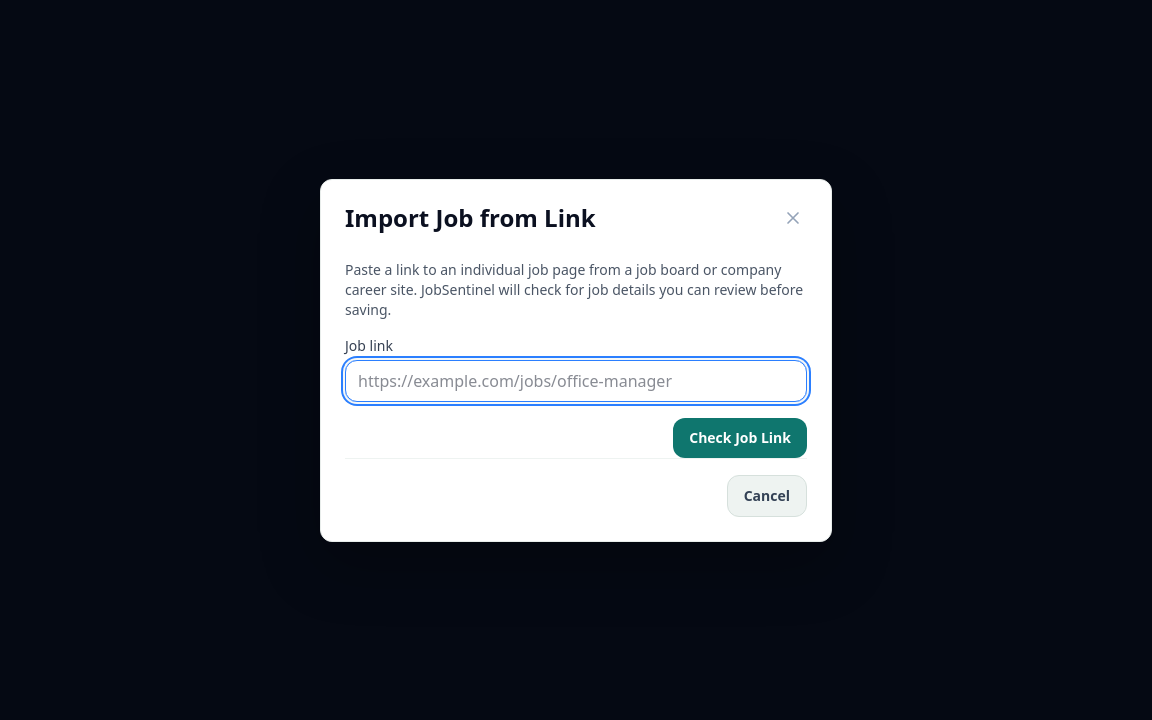
JobImportModal › explains invalid links without technical URL wording
Type "not a link" into the field labelled "Job link".
click(576, 380); type("not a link")  # box x1=345 y1=360 x2=807 y2=402
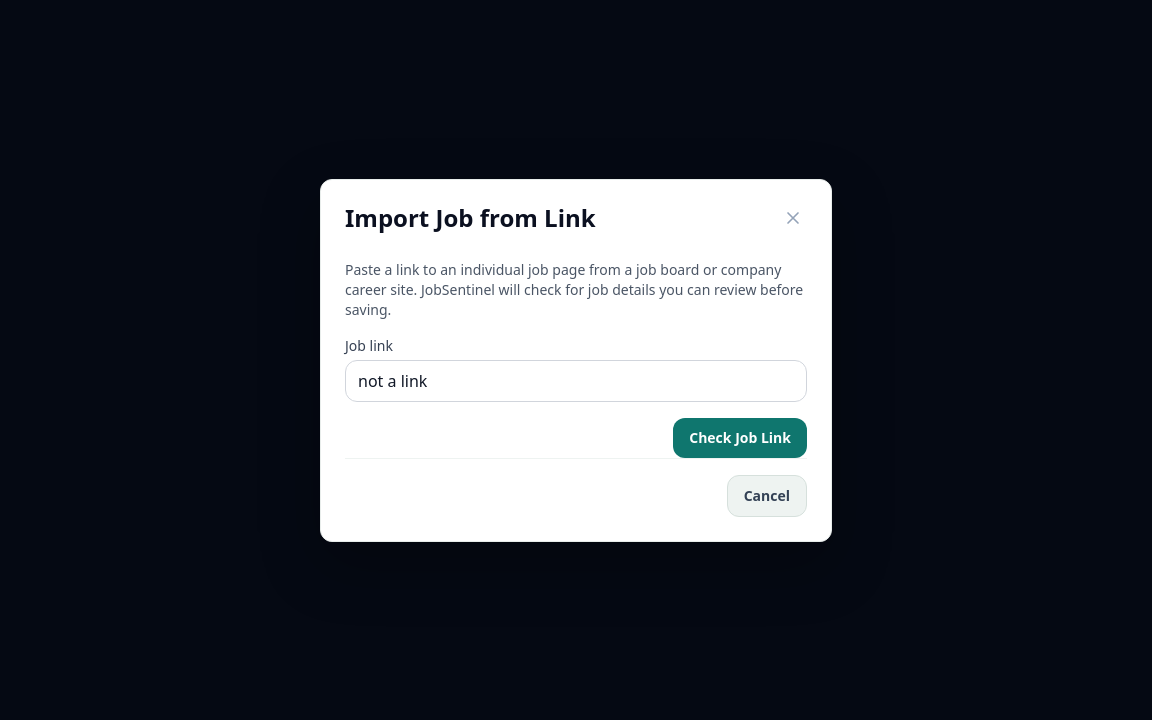
Click the button "Check Job Link".
click(740, 438)  # box x1=673 y1=418 x2=807 y2=458
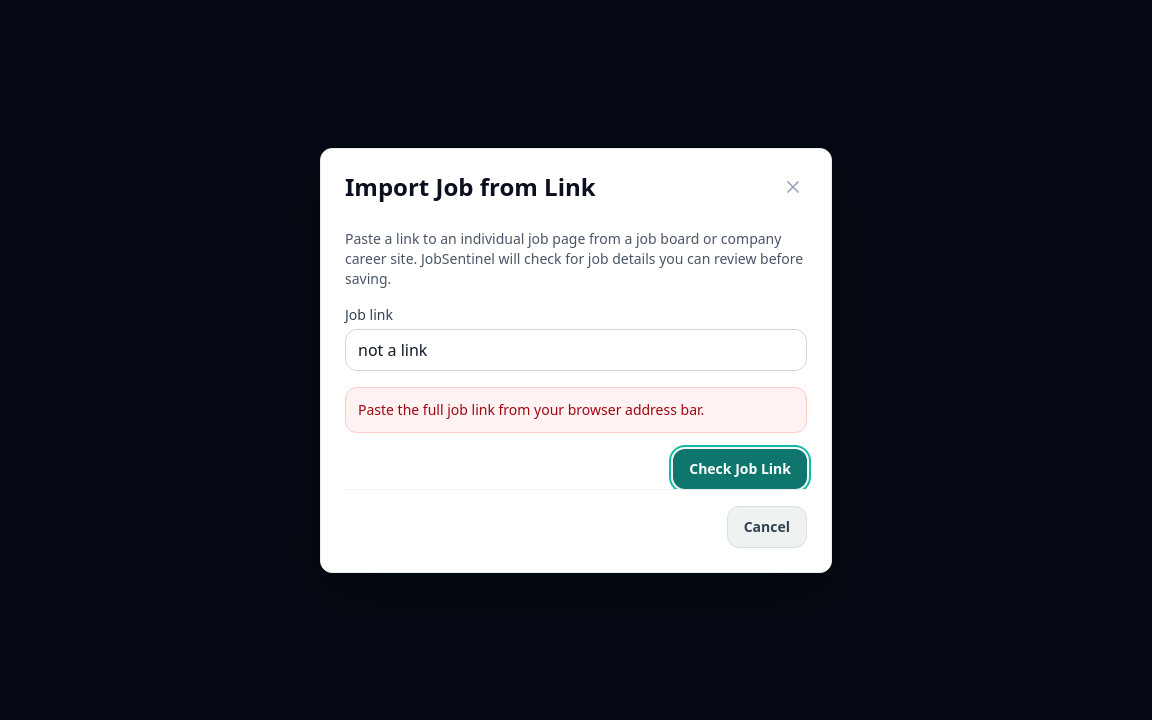
Expected: the message reads "Paste the full job link from your browser address bar.", x1=358 y1=400 x2=704 y2=418
